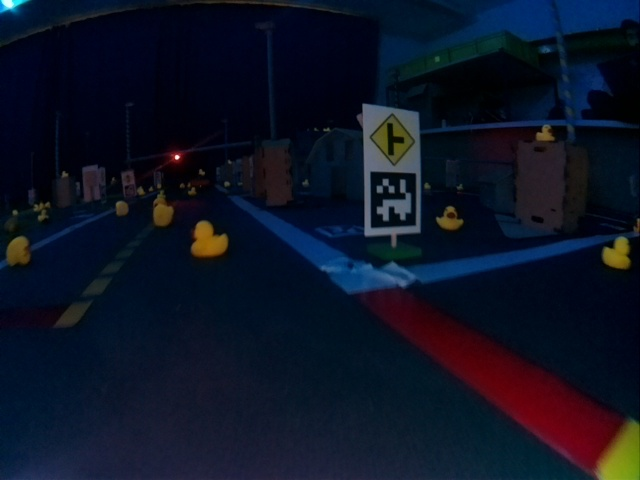Duckie: (190, 225, 228, 256), (603, 238, 631, 268), (6, 237, 30, 263), (438, 207, 461, 229), (152, 203, 173, 224), (536, 126, 552, 140), (116, 201, 128, 214)
Intersection sign: (369, 113, 416, 168)
QR code: (371, 172, 415, 229)
